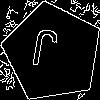J: (27, 27, 60, 78)
